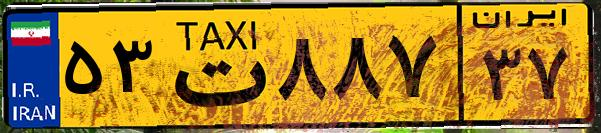3: (475, 38, 525, 113), (110, 28, 158, 98)
5: (57, 26, 110, 100)
7: (385, 28, 445, 110), (525, 38, 570, 115)
8: (270, 28, 330, 110), (330, 28, 385, 110)
ت: (158, 12, 270, 120)
